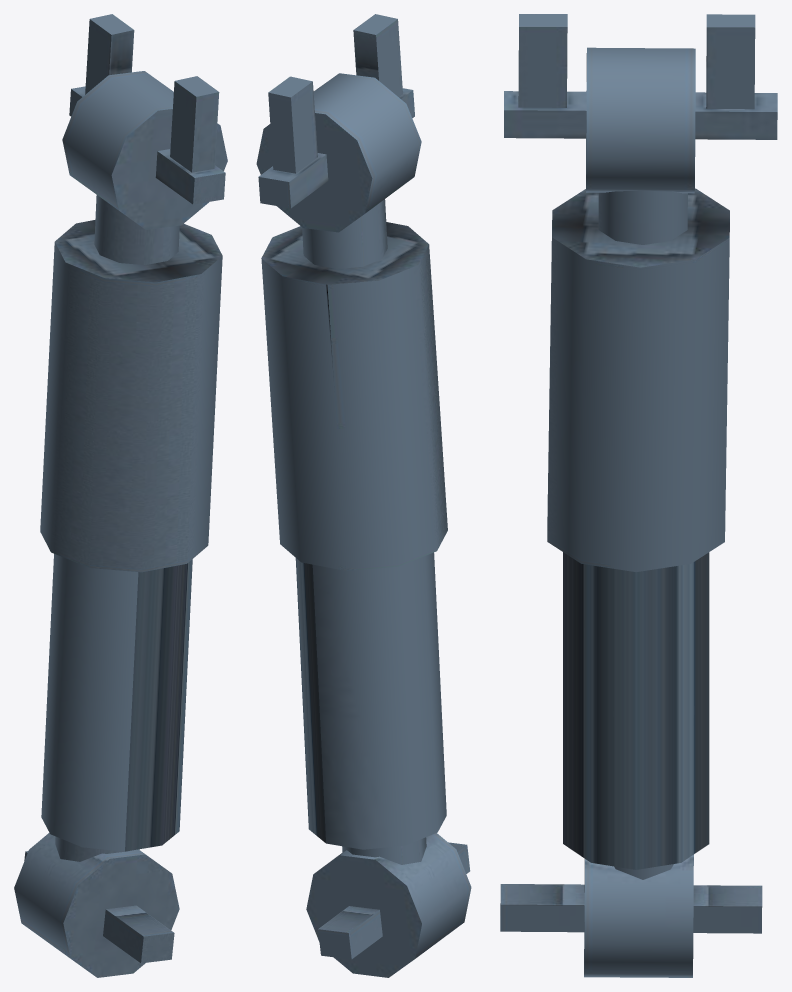
The model's file is jianyaqi003.FBX.
3 views of the same model, side by side, from view 1: azimuth 30°, elevation 25°; view 2: azimuth 150°, elevation 25°; view 3: azimuth 270°, elevation 25° (orthographic). The views are drawn at different scales.
Parts seen in each view (by area): view 1: Object096; view 2: Object096; view 3: Object096.
Part boxes in pixels (x1,y1,x2,y2): Object096: [14, 14, 227, 977]; Object096: [256, 14, 471, 977]; Object096: [500, 14, 777, 977].
Size of the model in its own units: 0.0813 by 0.3977 by 0.1018.
